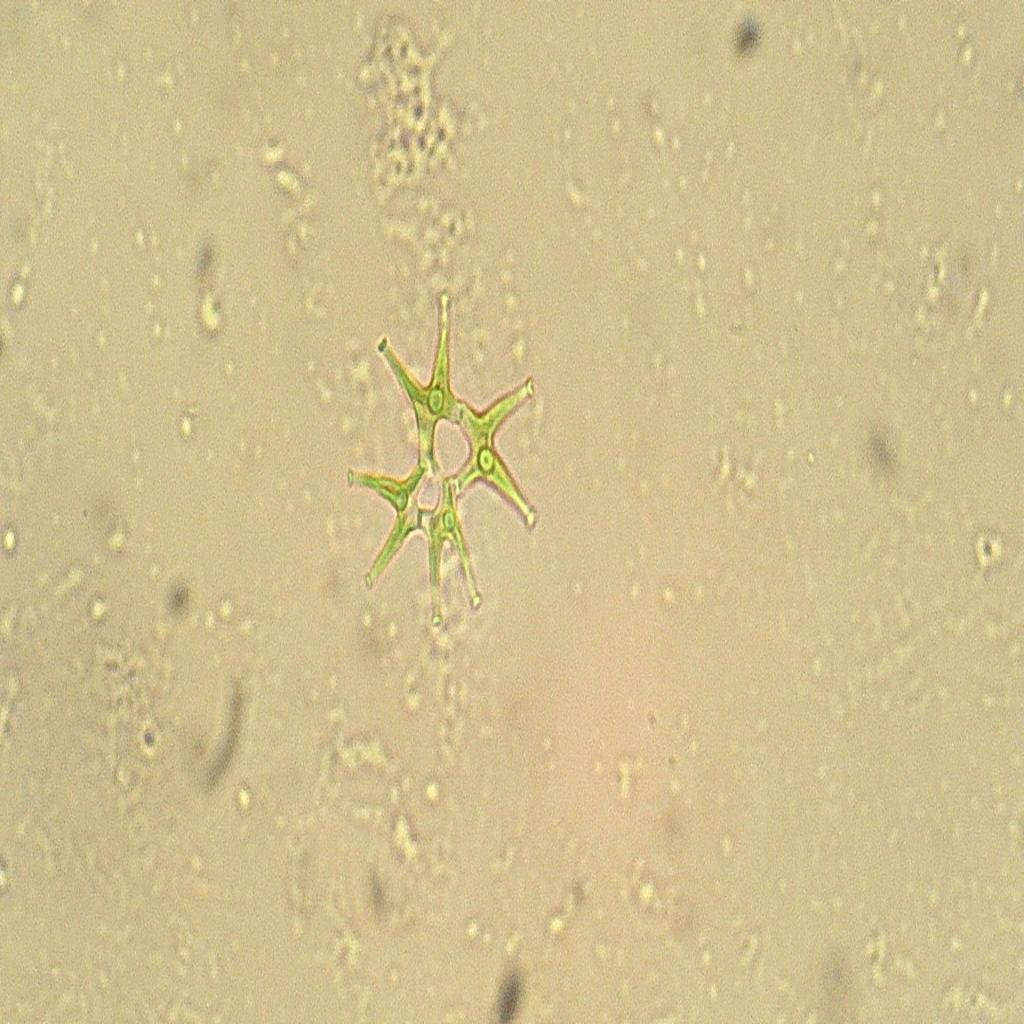Pediastrum_75FO: (328, 279, 554, 636)
